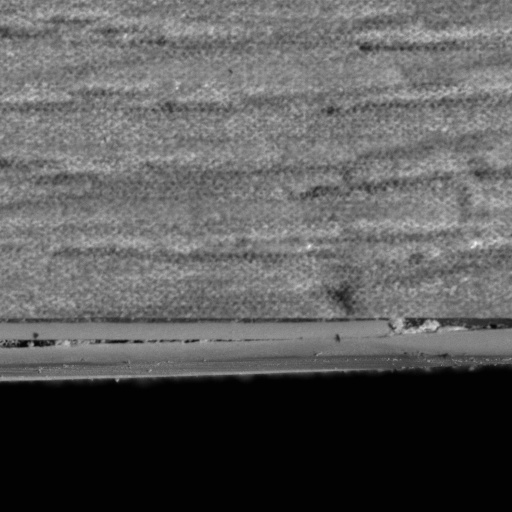kaijiao: (0, 313, 511, 386)
